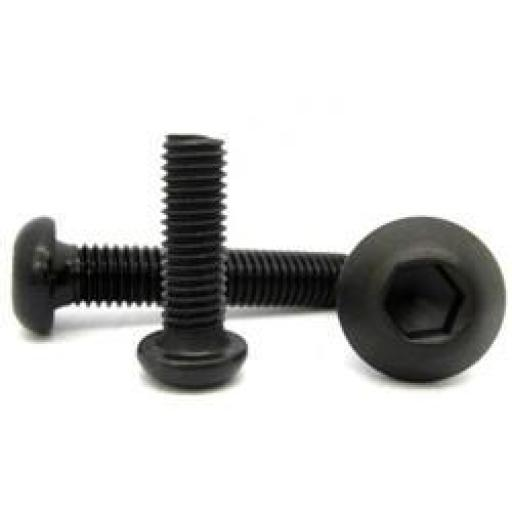Hex-Allen: (332, 216, 505, 386)
